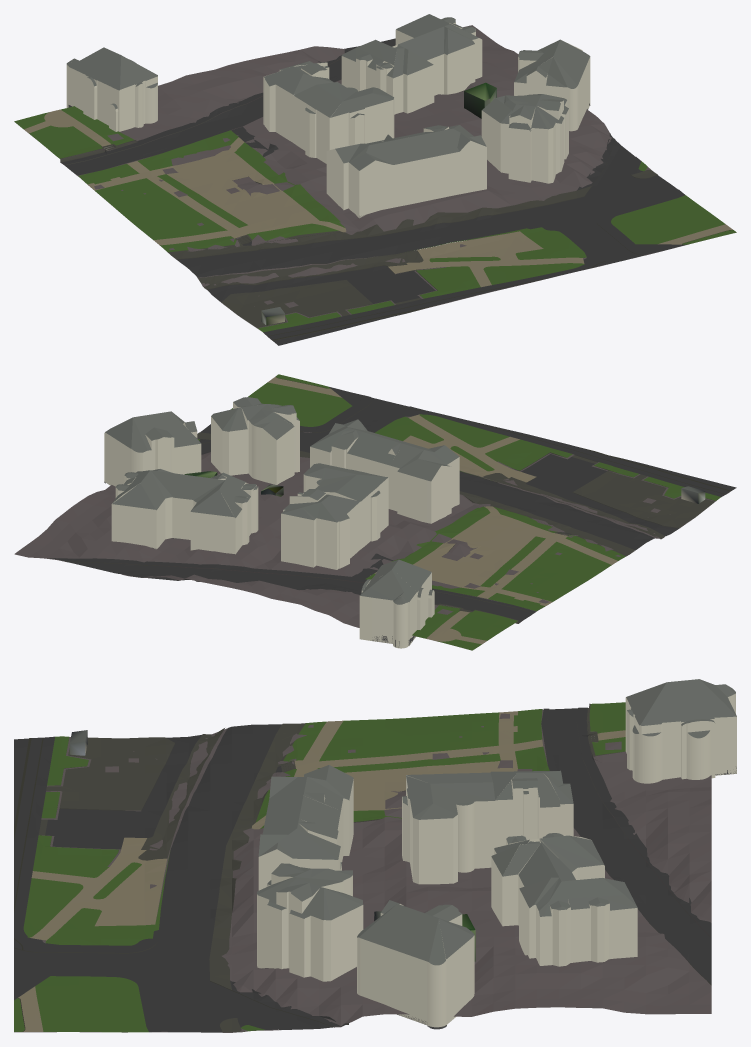
3 views of the same model, one above another, from view 1: azimuth 30°, elevation 25°; view 2: azimuth 150°, elevation 25°; view 3: azimuth 270°, elevation 25° (orthographic). The views are drawn at different scales.
Parts seen in each view (by area): view 1: c_m06_p12; view 2: c_m06_p12; view 3: c_m06_p12.
Part boxes in pixels (x1=…): c_m06_p12: x1=14, y1=14, x2=736, y2=345; c_m06_p12: x1=14, y1=374, x2=736, y2=650; c_m06_p12: x1=14, y1=679, x2=736, y2=1032.
Bounding box in the file's own units: 132 × 23.33 × 133.
